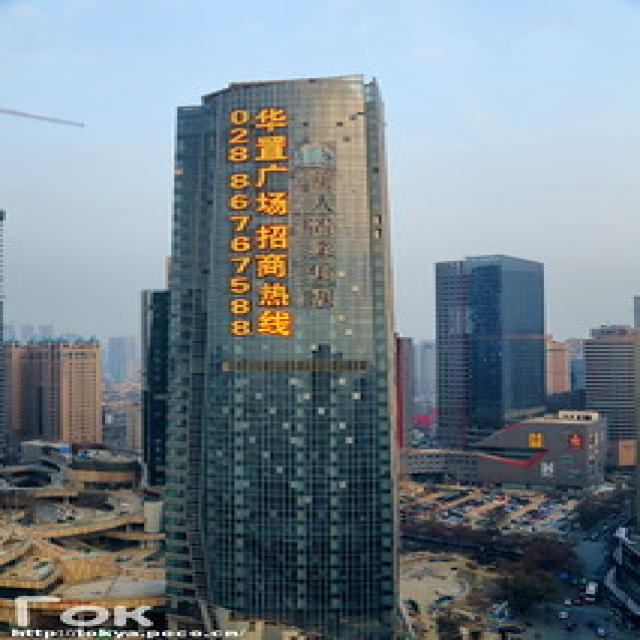building: (149, 70, 404, 636)
